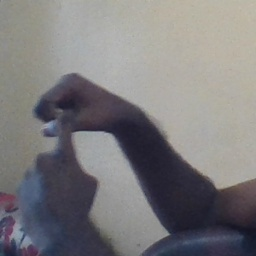Q: (16, 72, 120, 225)
